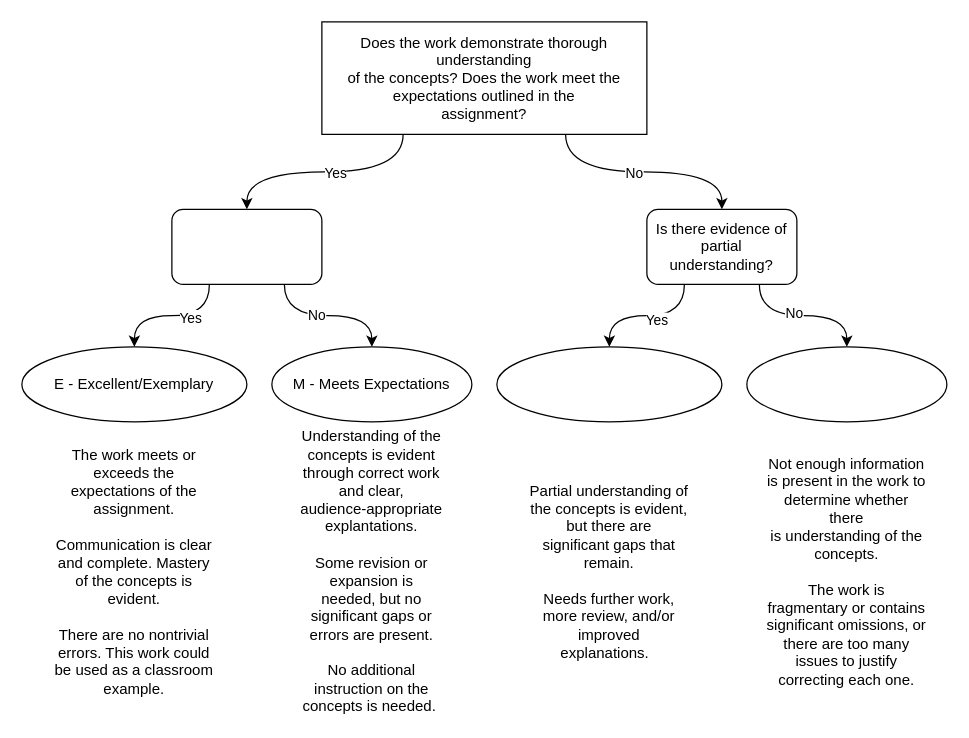
This 969x738 diagram has some shape labels left out. The box of each missing label's shape, as (x1, y1, x2, y2) in pixels:
Is the work complete and well communicated?: (171, 208, 322, 284)
N - Not Assessable: (746, 346, 947, 422)
R - Revision Needed: (496, 346, 722, 422)
